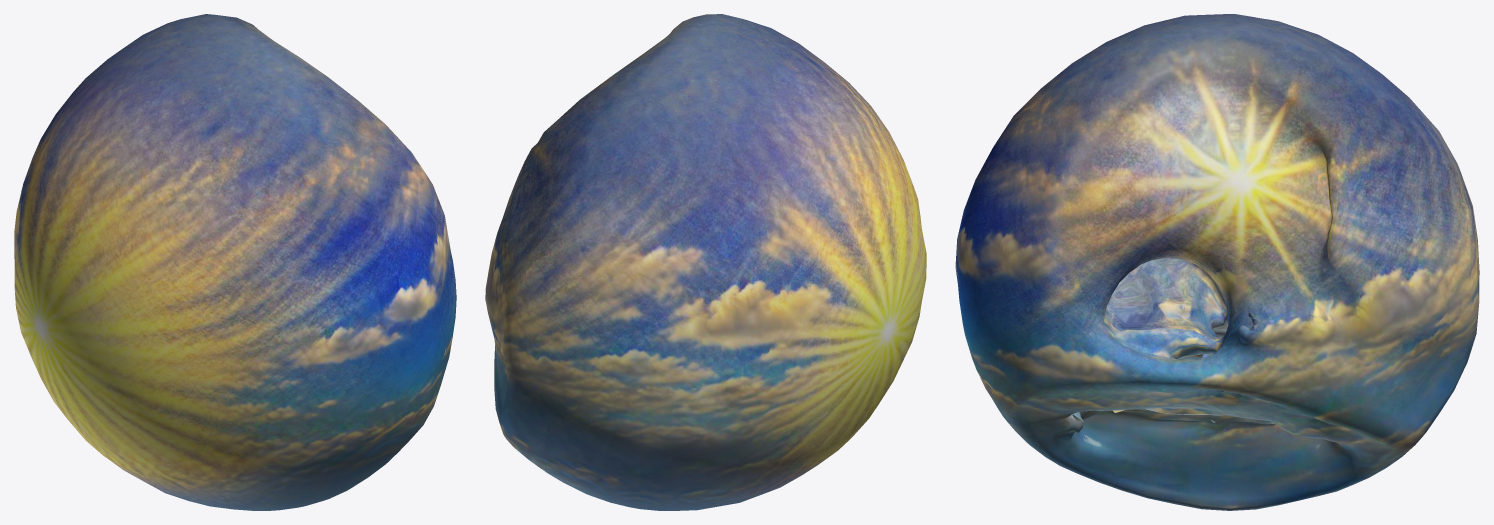
File: asunnysky.glb
The picture shows the model from 3 angles, left to right: view 1: azimuth 30°, elevation 25°; view 2: azimuth 150°, elevation 25°; view 3: azimuth 270°, elevation 25°; orthographic projection. The views are drawn at different scales.
Parts seen in each view (by area): view 1: mesh; view 2: mesh; view 3: mesh.
Part boxes in pixels (left/top/right/bottom): mesh: left=14, top=14, right=456, bottom=510; mesh: left=485, top=14, right=926, bottom=510; mesh: left=955, top=14, right=1479, bottom=510.
Size of the model in its own units: 0.7944 by 0.9979 by 0.9973.
Materials: 1 (1 with a texture image).
